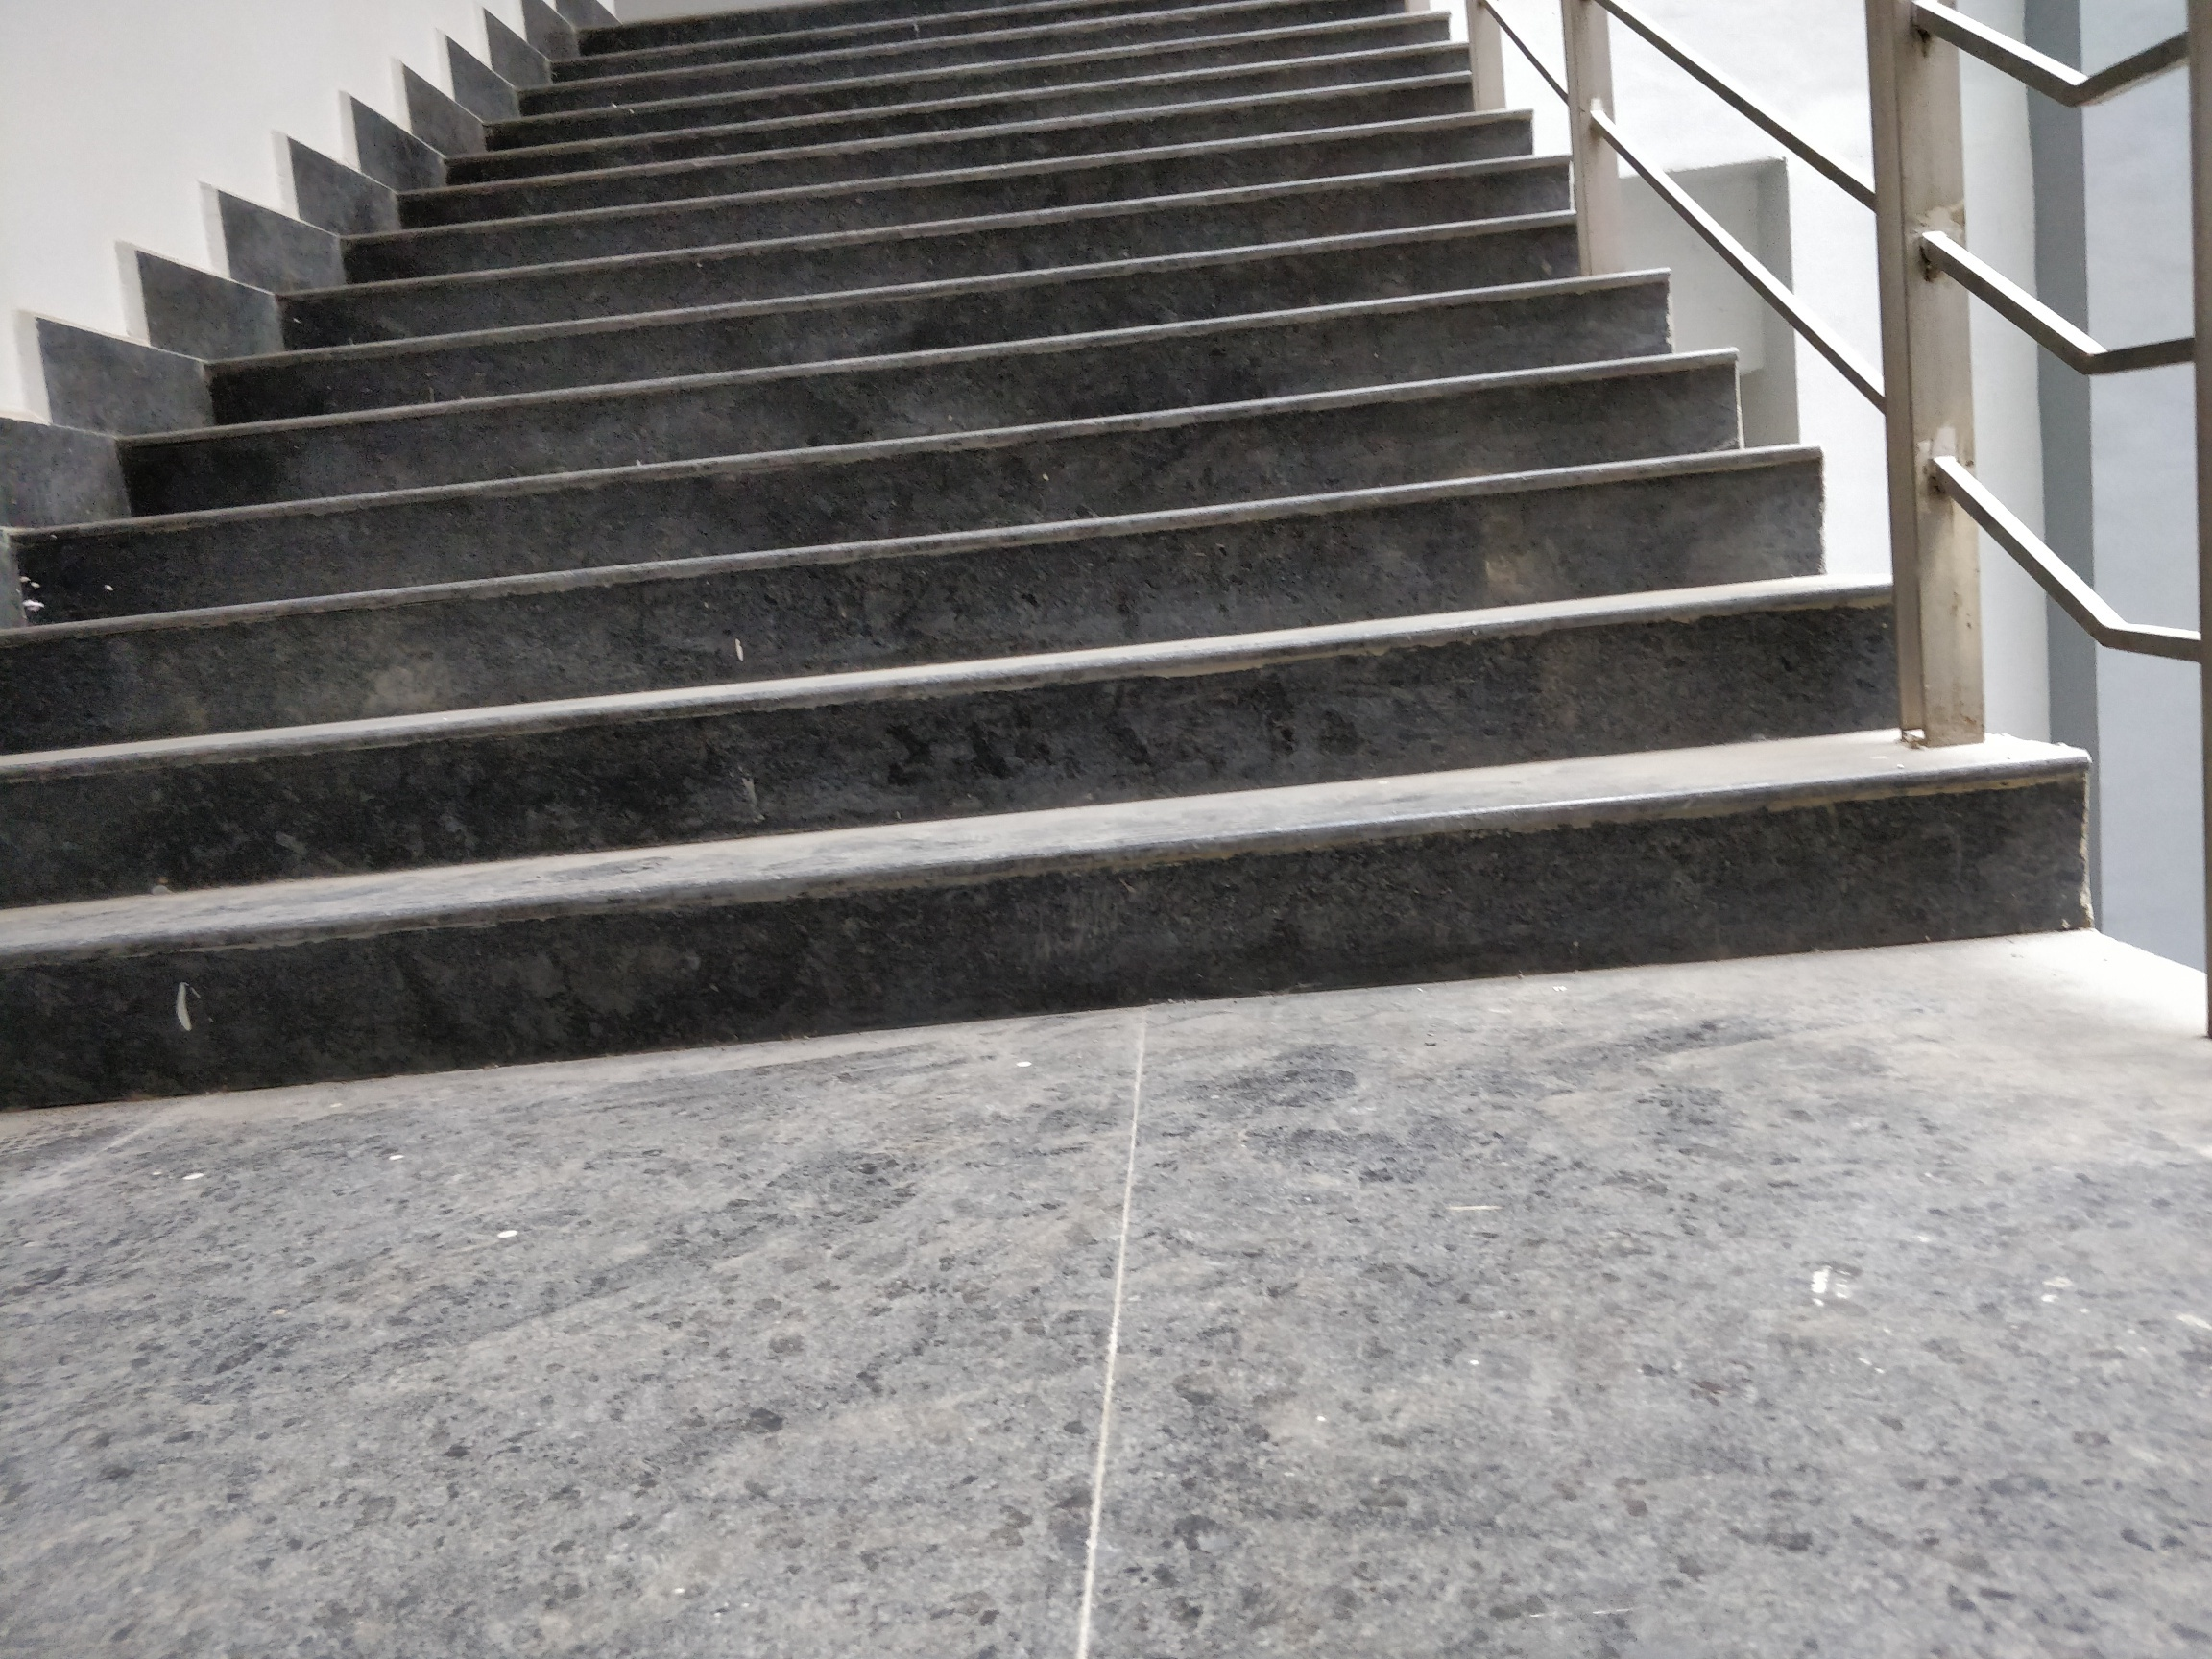stairs_up: (153, 84, 2001, 1006)
